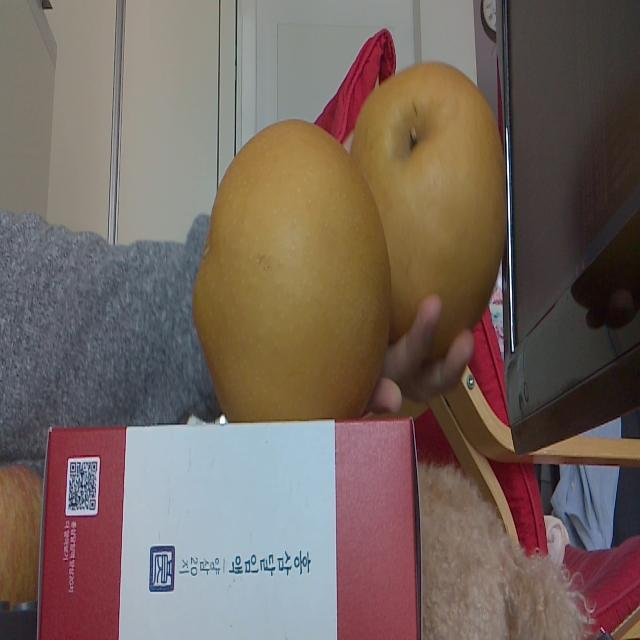apple: (0, 468, 39, 596)
pear: (193, 120, 391, 418), (352, 61, 506, 347)
